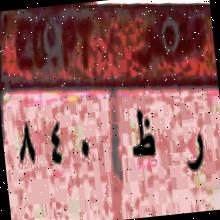0: (78, 129, 91, 165)
4: (44, 118, 66, 174)
8: (14, 117, 36, 171)
Thaa: (126, 102, 156, 166)
raa: (181, 118, 207, 178)
